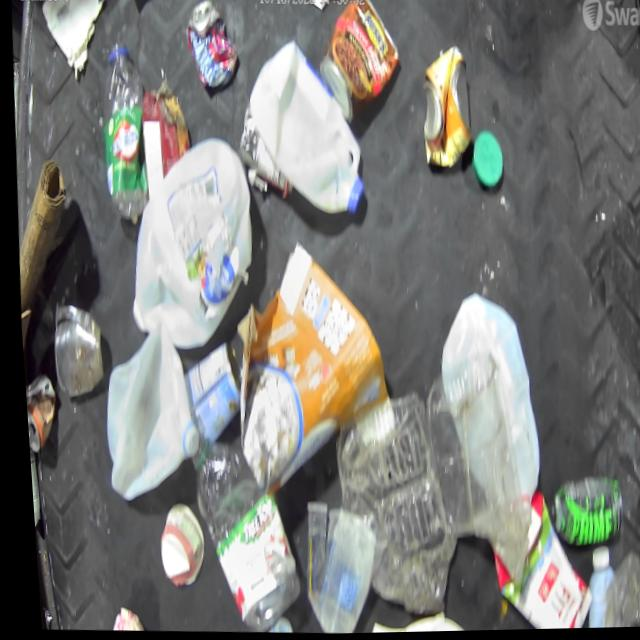can: (313, 0, 405, 130), (174, 339, 243, 450), (415, 44, 473, 175), (539, 475, 618, 554), (181, 0, 242, 97), (20, 372, 54, 454)
milk_jug: (117, 133, 259, 355), (427, 292, 543, 519), (239, 38, 369, 218), (92, 316, 200, 505)
non_white_jug: (478, 492, 589, 632)
plastic_bottle: (94, 36, 151, 222)
